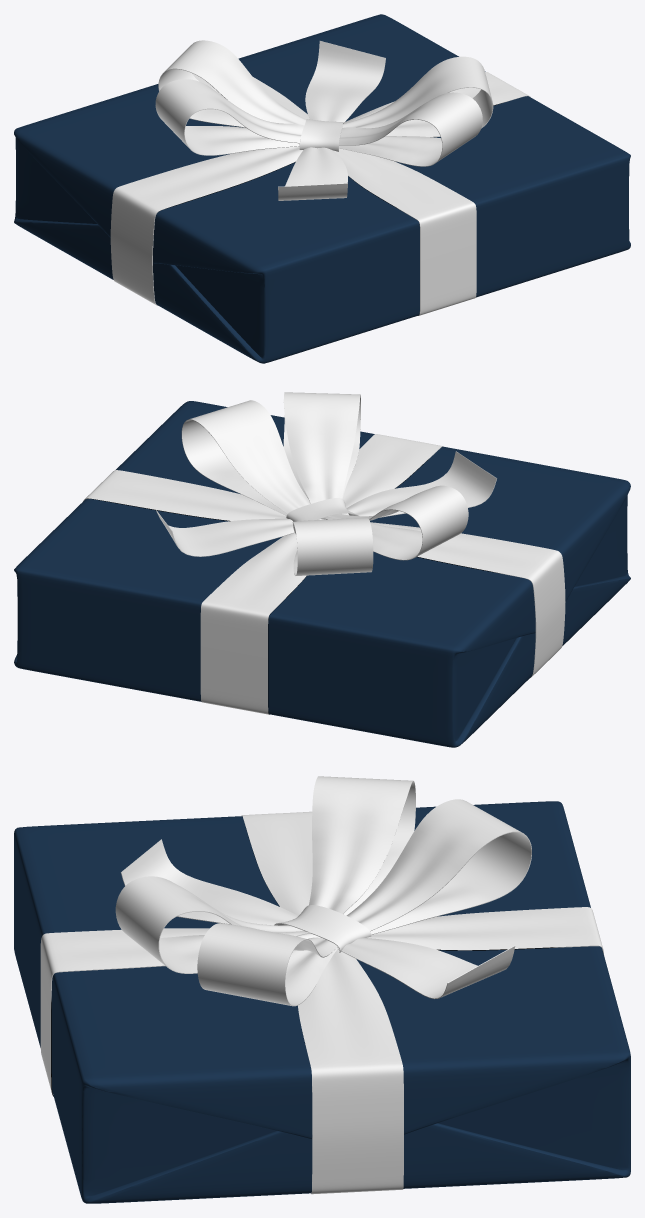
File: present_04.gltf
3 views of the same model, one above another, from view 1: azimuth 30°, elevation 25°; view 2: azimuth 150°, elevation 25°; view 3: azimuth 270°, elevation 25° (orthographic). The views are drawn at different scales.
Parts seen in each view (by area): view 1: present_04; view 2: present_04; view 3: present_04.
Boxes of the visible parts, left/top/right/bottom form: present_04: left=14, top=14, right=630, bottom=363; present_04: left=14, top=392, right=630, bottom=747; present_04: left=14, top=776, right=630, bottom=1203.
Size of the model in its own units: 0.3559 by 0.1229 by 0.3271.
1 material, 1 textured.
